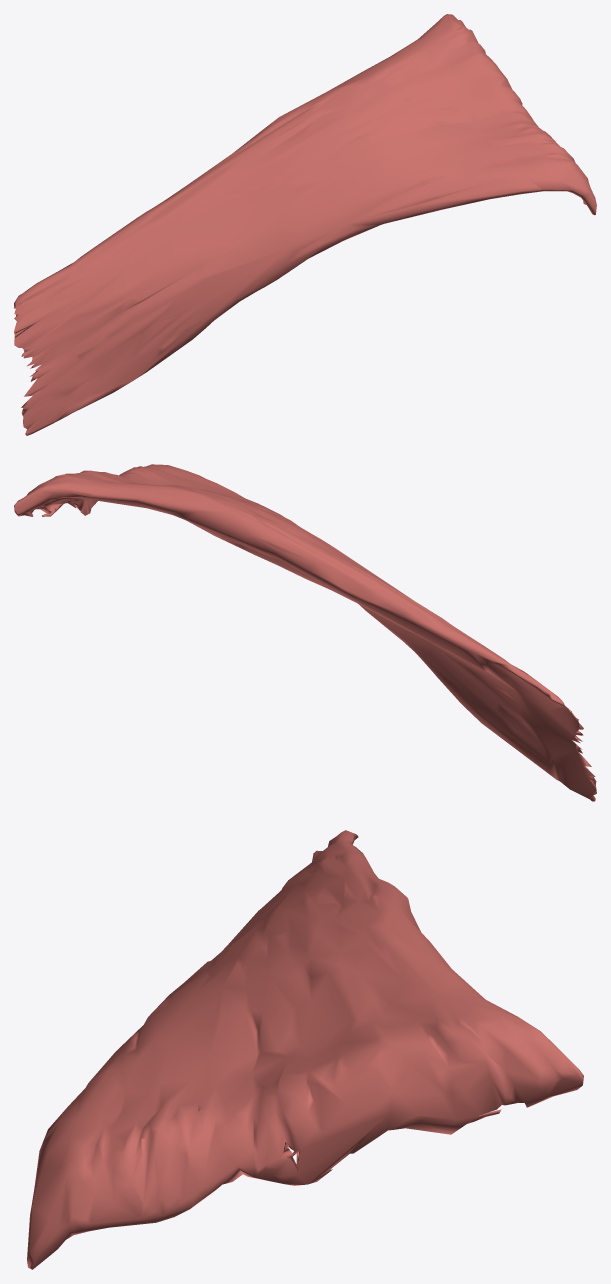
3 renders of one model, top to bottom at view 1: azimuth 30°, elevation 25°; view 2: azimuth 150°, elevation 25°; view 3: azimuth 270°, elevation 25°, orthographic. The views are drawn at different scales.
Parts seen in each view (by area): view 1: 右侧斜方肌横部; view 2: 右侧斜方肌横部; view 3: 右侧斜方肌横部.
Boxes of the visible parts, <box> form: 右侧斜方肌横部: <box>14,14,596,435</box>; 右侧斜方肌横部: <box>14,464,596,801</box>; 右侧斜方肌横部: <box>27,830,583,1269</box>.
Bounding box in the file's own units: 0.2538 × 0.118 × 0.1196.
